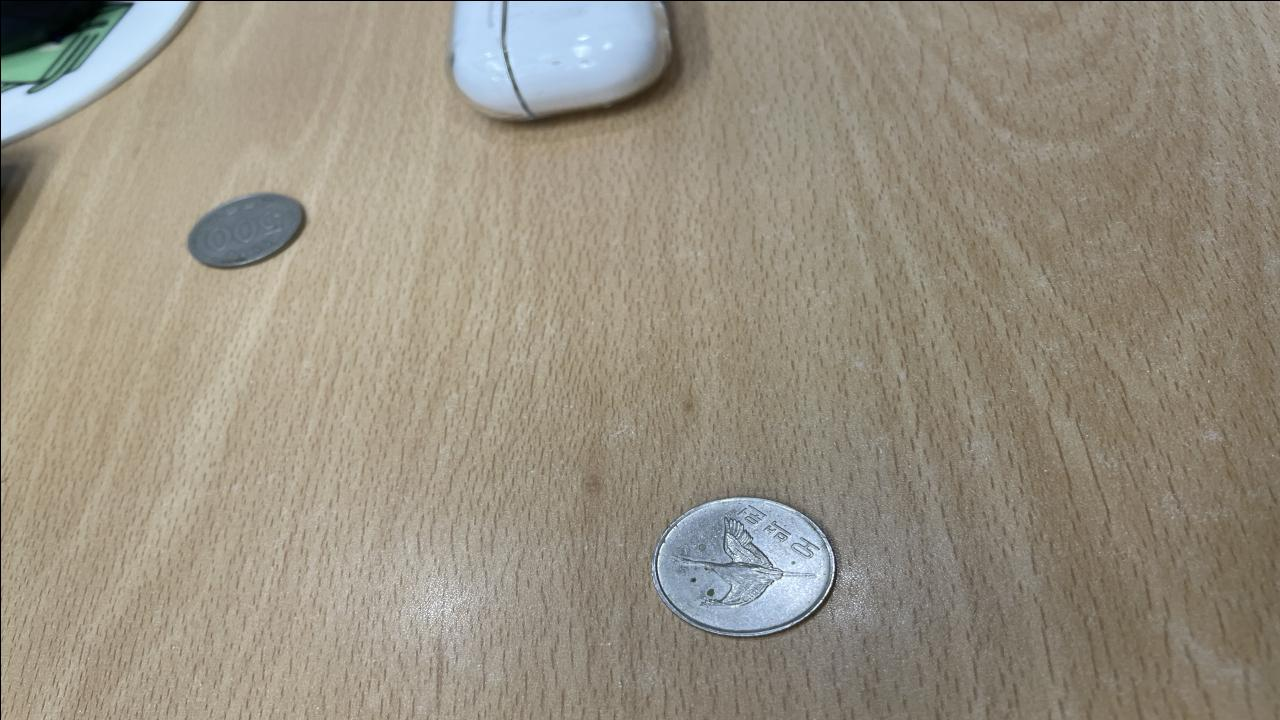coin: (642, 492, 838, 638), (181, 187, 308, 270)
